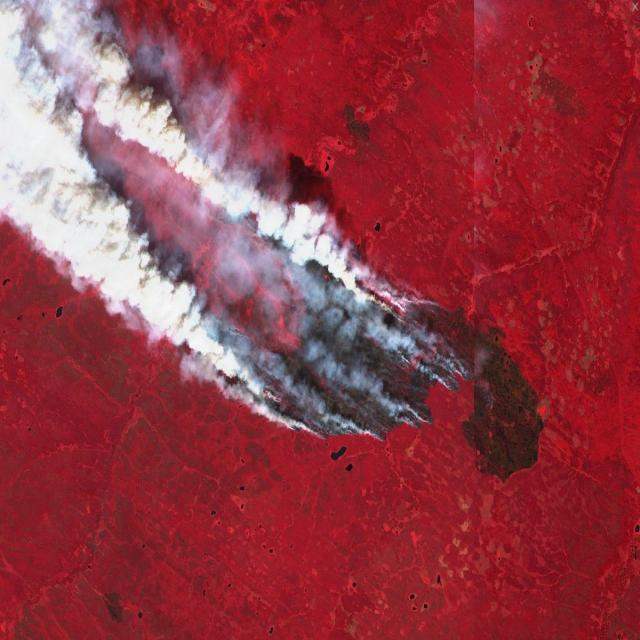fire: (157, 147, 476, 450)
